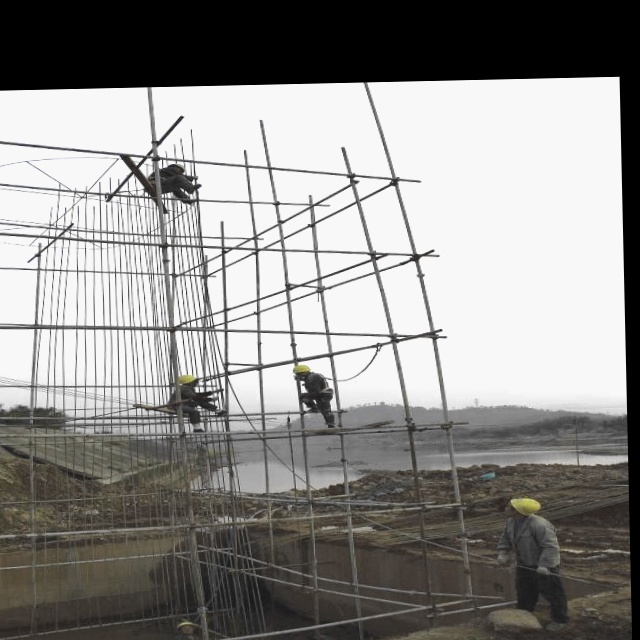Con_Casco: (503, 497, 543, 520), (179, 374, 200, 388), (293, 364, 312, 378)
